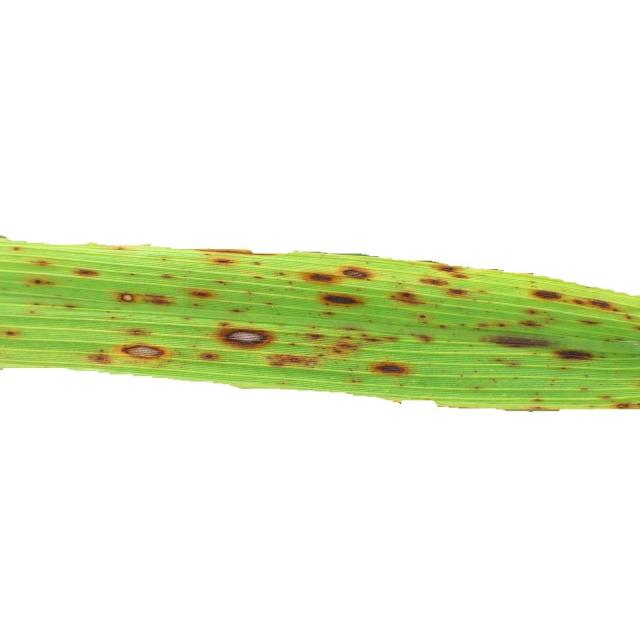Brown spot: (0, 218, 640, 443)
